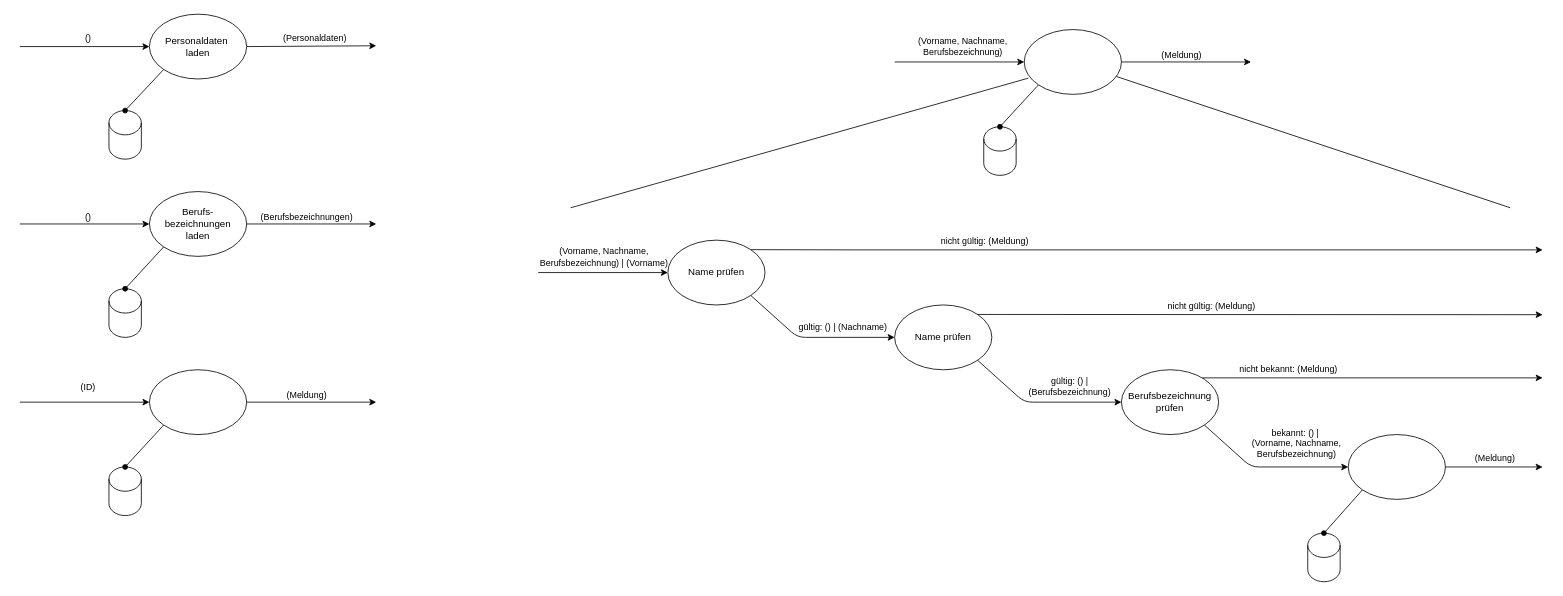
Image size: 1563x596. Some labels were removed from this diagram. The shapes that lost their labels are listed below. From the top down, each one's centre as x and y in pixels, then its label:
At point 1072,61: "Personal anlegen".
At point 198,402: "Personal löschen".
At point 1396,466: "Personaldaten persistieren".
